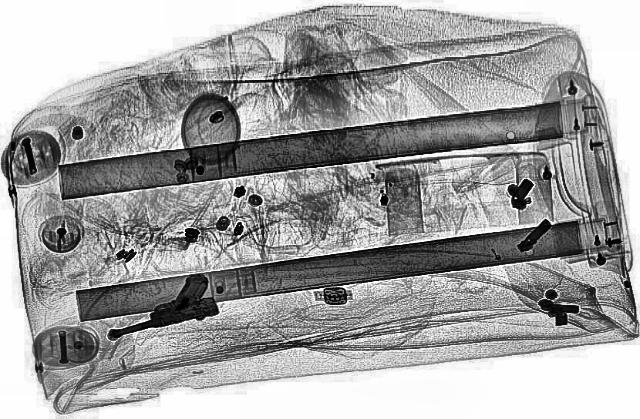Gun: (90, 270, 242, 354)
